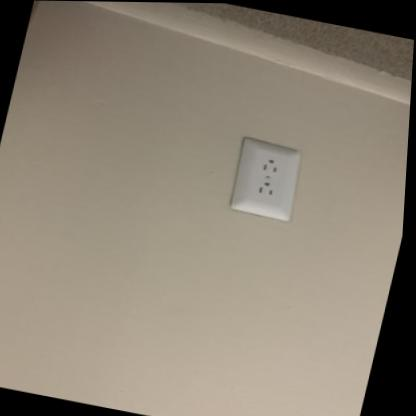OUTLET: (227, 140, 302, 220)
